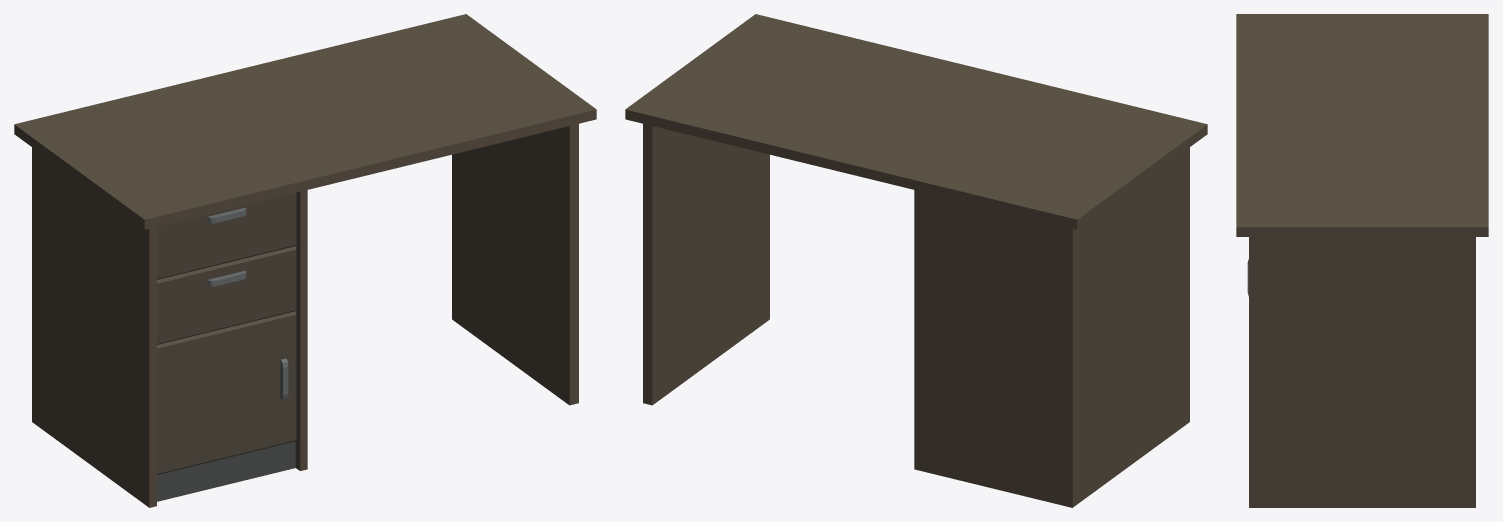
Rendered from SM_Props_Interior_House_Generic_Table_04.fbx.
3 renders of one model, left to right at view 1: azimuth 30°, elevation 25°; view 2: azimuth 150°, elevation 25°; view 3: azimuth 270°, elevation 25°, orthographic. The views are drawn at different scales.
Visible parts, largest first — view 1: SM_Props_Interior_House_Generic_Table_04, SM_Props_Interior_House_Generic_Table_01_Door_01, SM_Props_Interior_House_Generic_Table_01_Door_02, SM_Props_Interior_House_Generic_Table_01_Door_03; view 2: SM_Props_Interior_House_Generic_Table_04; view 3: SM_Props_Interior_House_Generic_Table_04.
Part boxes in pixels (x1,y1,x2,y2): SM_Props_Interior_House_Generic_Table_04: (14,14,596,507); SM_Props_Interior_House_Generic_Table_01_Door_01: (157,311,296,474); SM_Props_Interior_House_Generic_Table_01_Door_02: (157,246,296,344); SM_Props_Interior_House_Generic_Table_01_Door_03: (157,192,296,279); SM_Props_Interior_House_Generic_Table_04: (625,14,1207,507); SM_Props_Interior_House_Generic_Table_04: (1236,14,1488,507).
Bounding box in the file's own units: 120 × 75 × 60.
